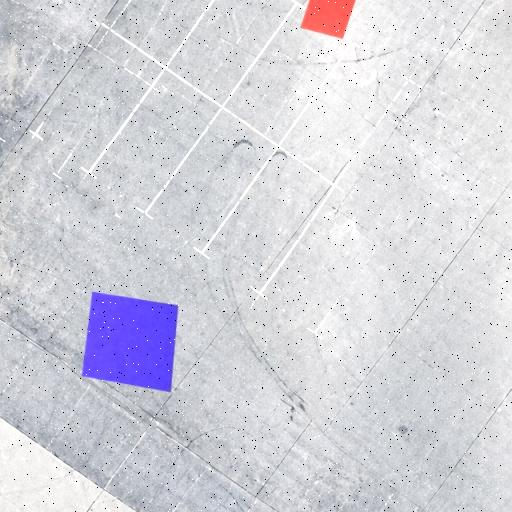BLUE_SQUARE: (82, 291, 179, 393)
RED_SQUARE: (300, 0, 359, 39)
